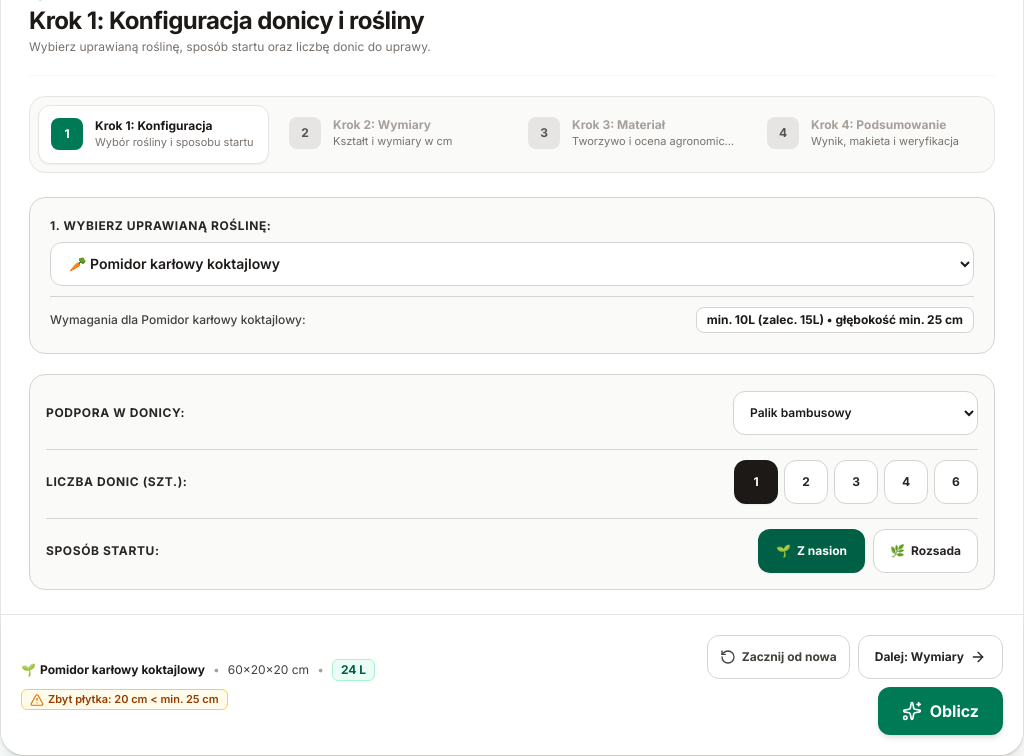
Test: PotCalculator - Submit Contract, Idempotency, Errors, Timeout & Navigation › handles request timeout gracefully, preserving entered values and offering retry
(page scrolled)
Step 1. Click the button with test id "pot-calculator-submit" → (940, 710), box [878,686,1003,734]
(page scrolled)
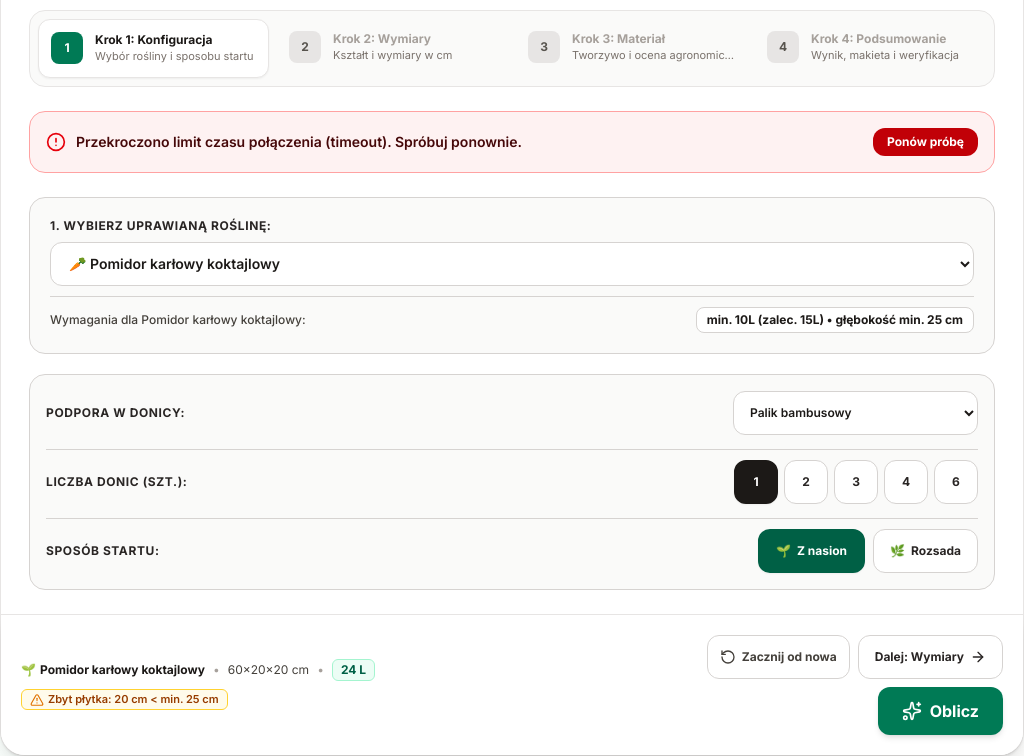
Now the message "Przekroczono limit czasu połączenia (timeout). Spróbuj ponownie. Ponów próbę" is shown, box [29,110,995,172]
Now the message shows "timeout", box [76,132,522,150]
Now the button "Ponów próbę" is shown, box [873,128,978,156]
